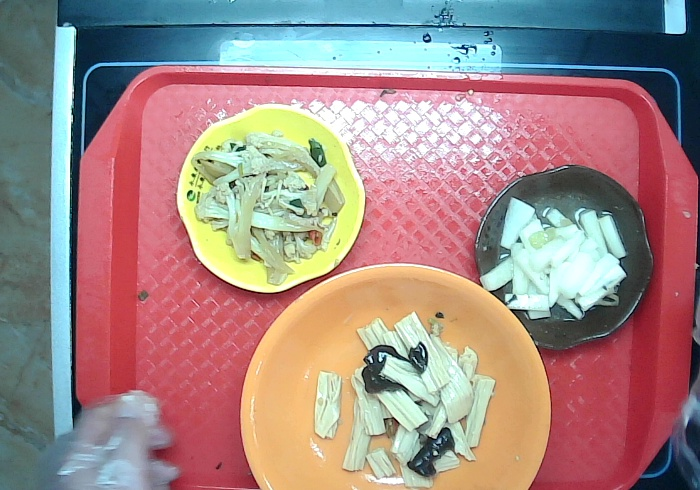YKMZ-Huang_Se_Ao_Bian_Wan: (175, 103, 366, 295)
YKMZ-Ju_Se_Tang_Wan: (239, 262, 555, 490)
YKMZ-Ka_Fei_Ao_Bian_Wan: (473, 163, 654, 350)
